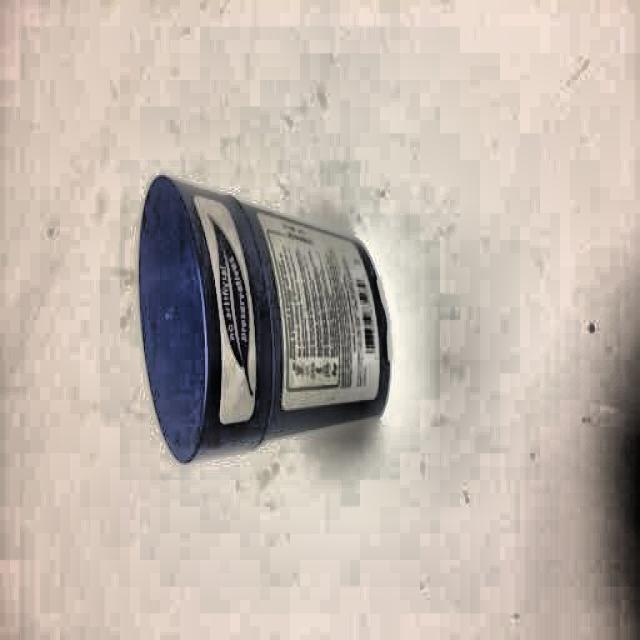trash: (139, 175, 397, 448)
